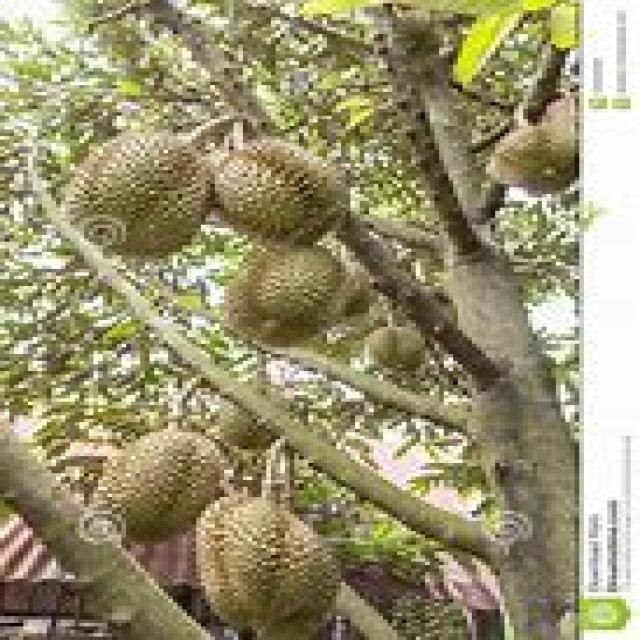mature: (197, 495, 338, 640), (63, 132, 213, 256), (93, 429, 221, 542), (214, 139, 348, 244), (226, 245, 345, 346)
